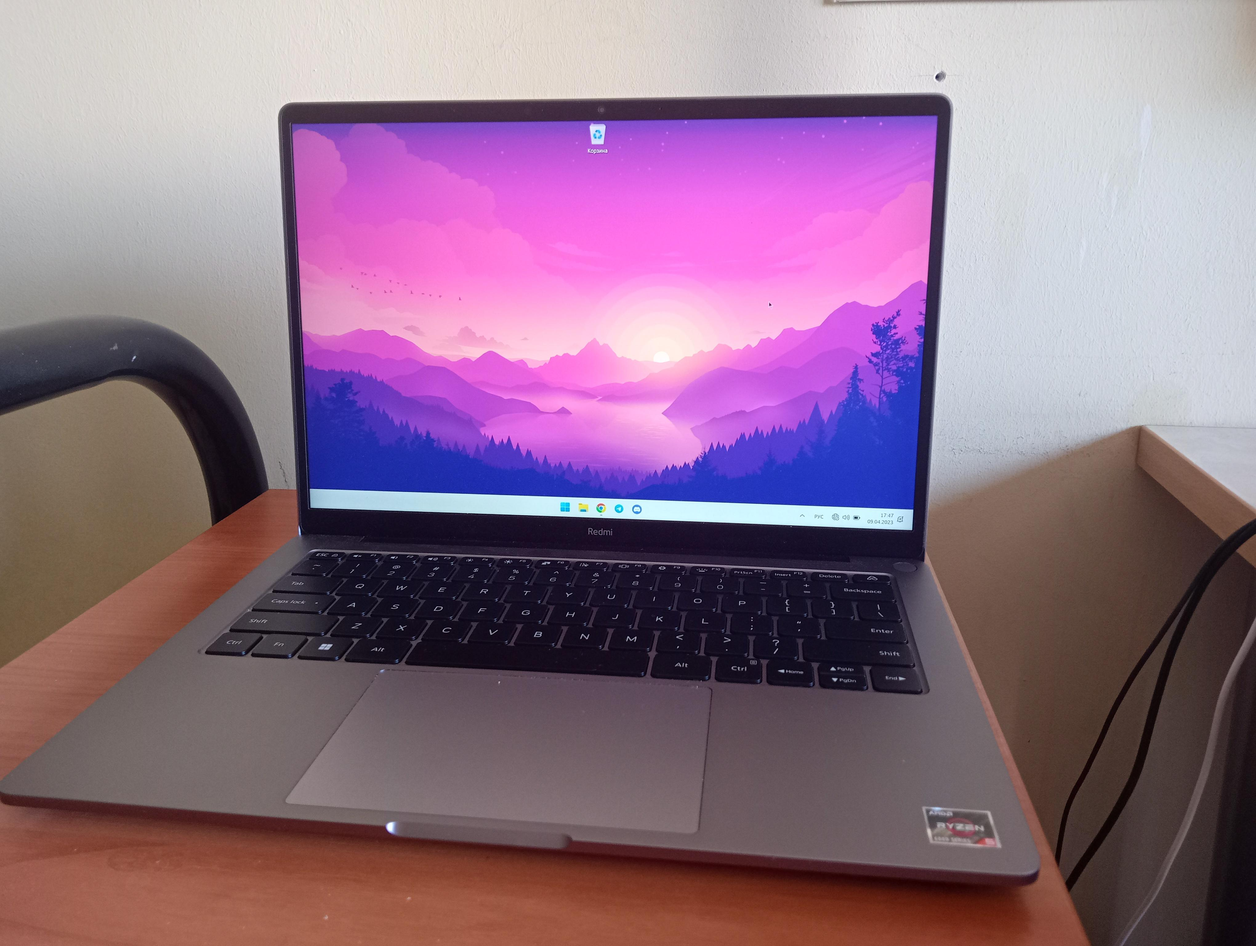monitor: (269, 85, 956, 557)
